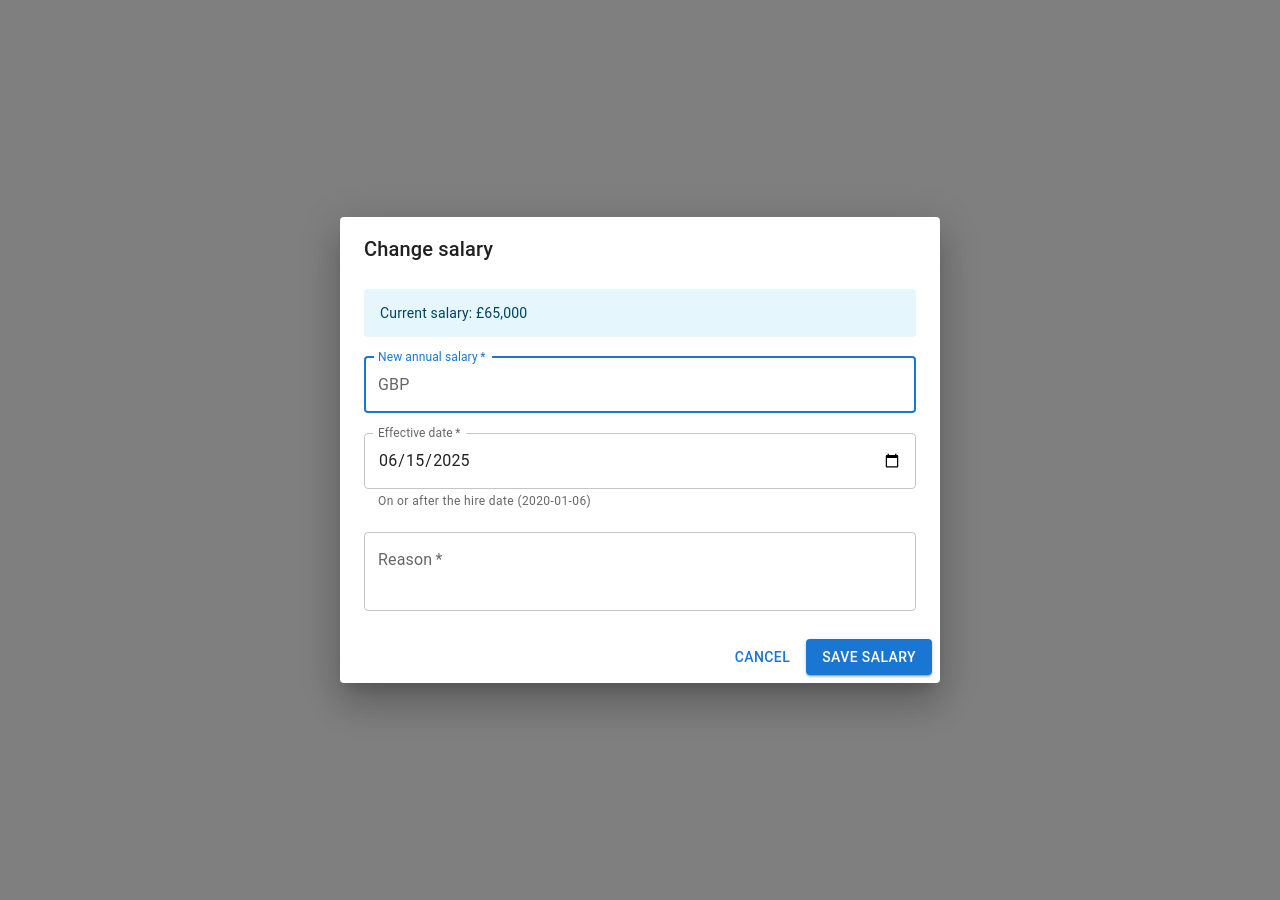
Test case: SalaryChangeDialog › explains a conflict when someone else changed the employee first
Step 1. Type "70000" into the field labelled "New annual salary *" → (667,385), box [417,357,916,413]
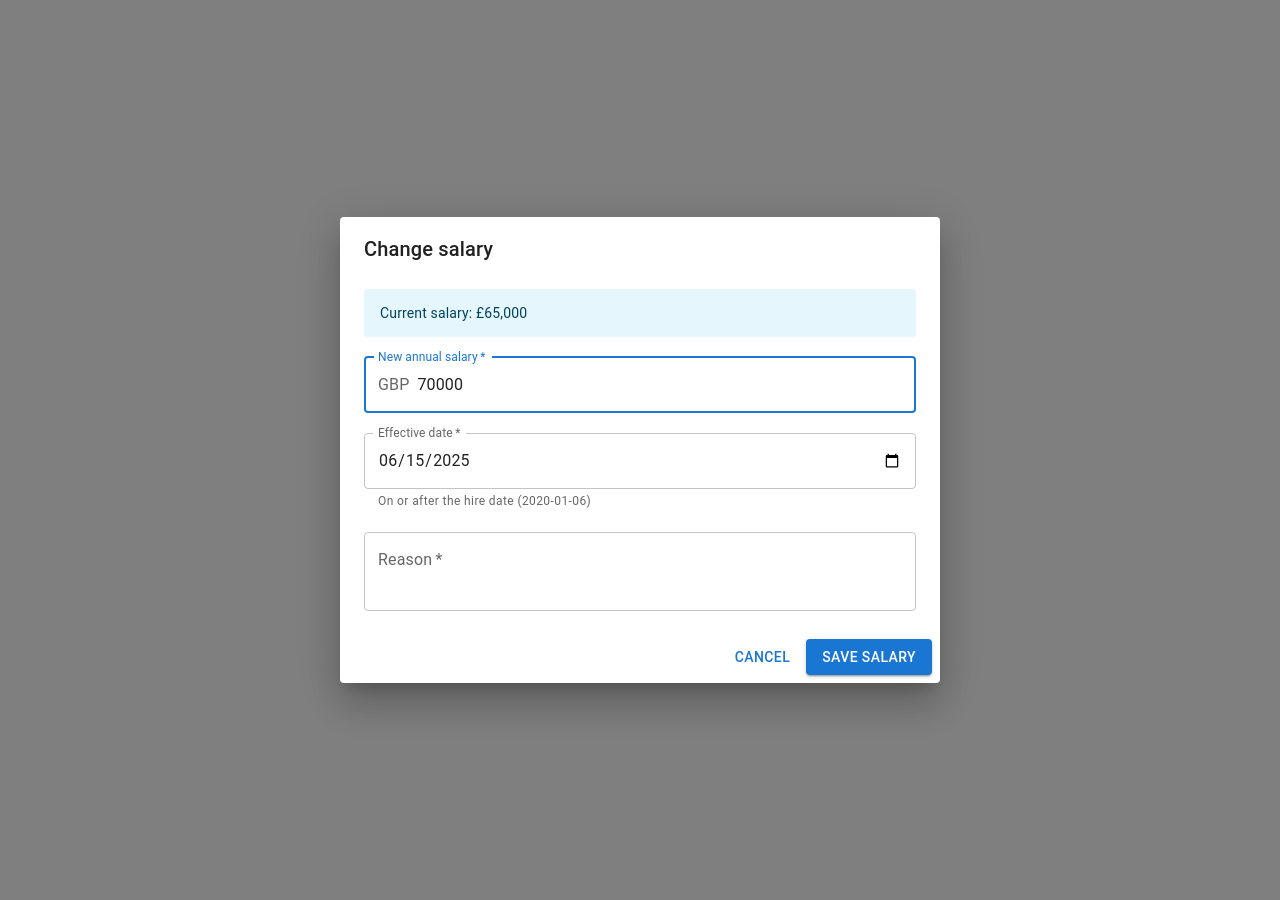
Step 2. Type "Promotion" into the text box labelled "Reason *" → (640,571), box [378,548,902,594]
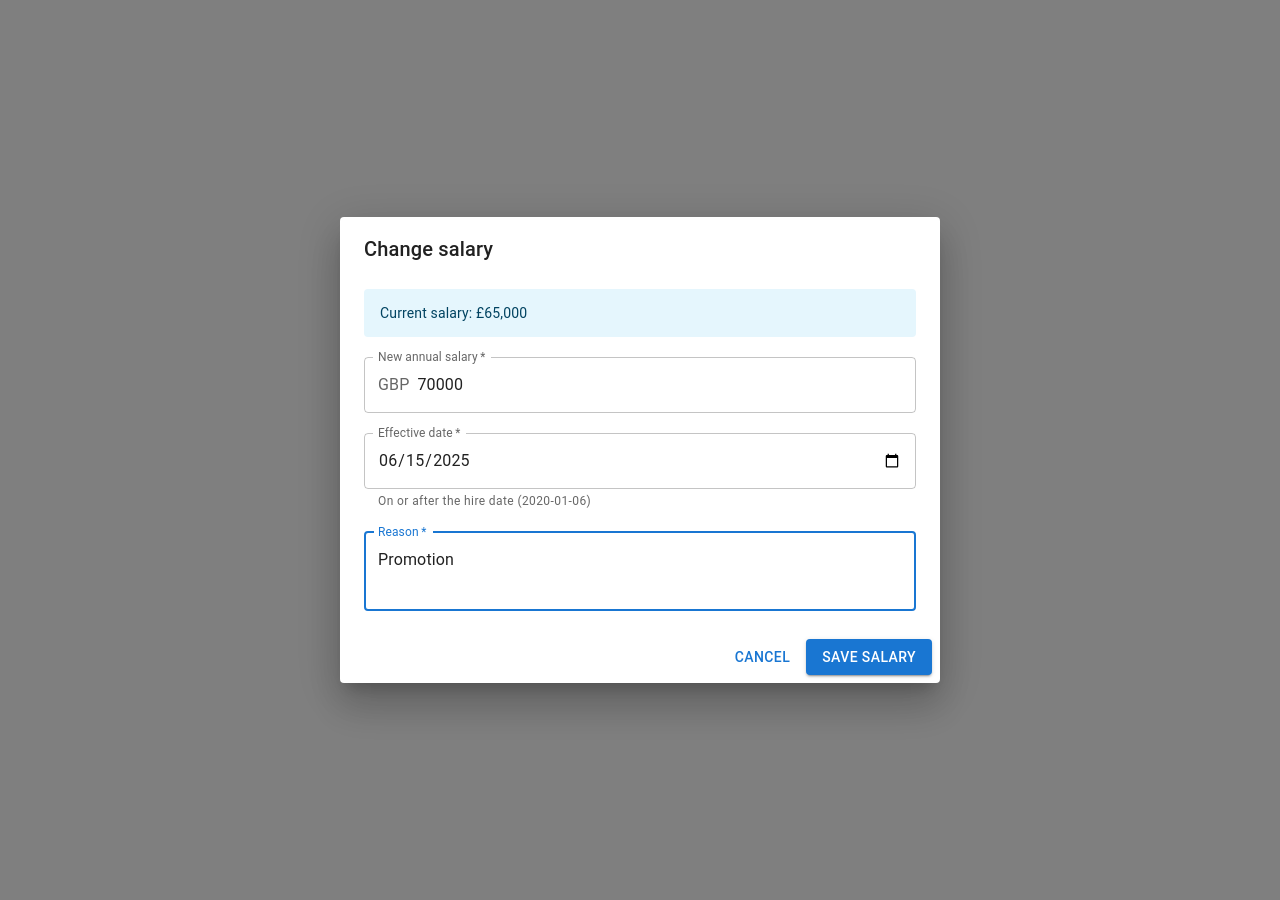
Step 3. Click the button "Save salary" → (869,657), box [806,639,932,675]
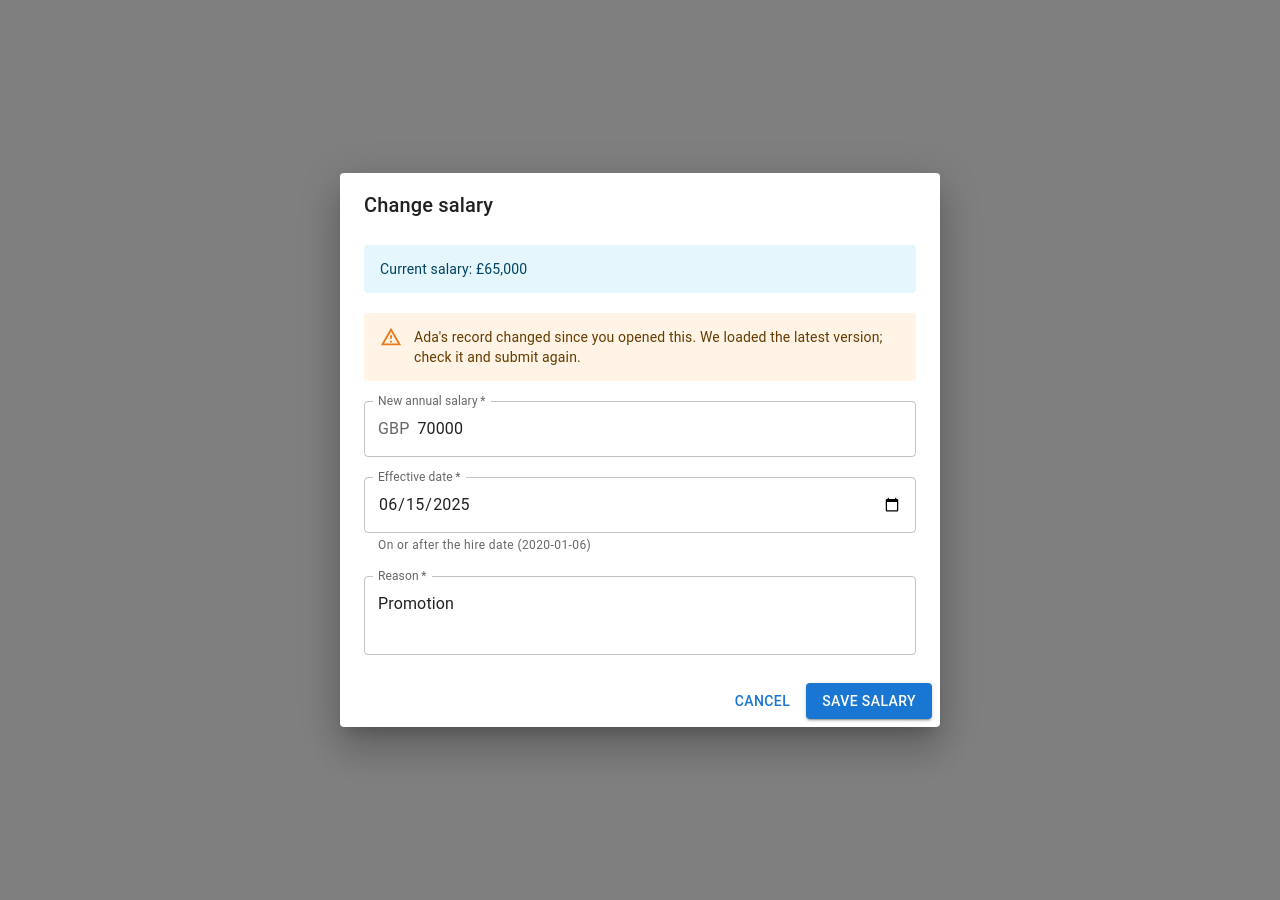
Check: the text "record changed since you opened this" is shown, box [414,329,883,365]
